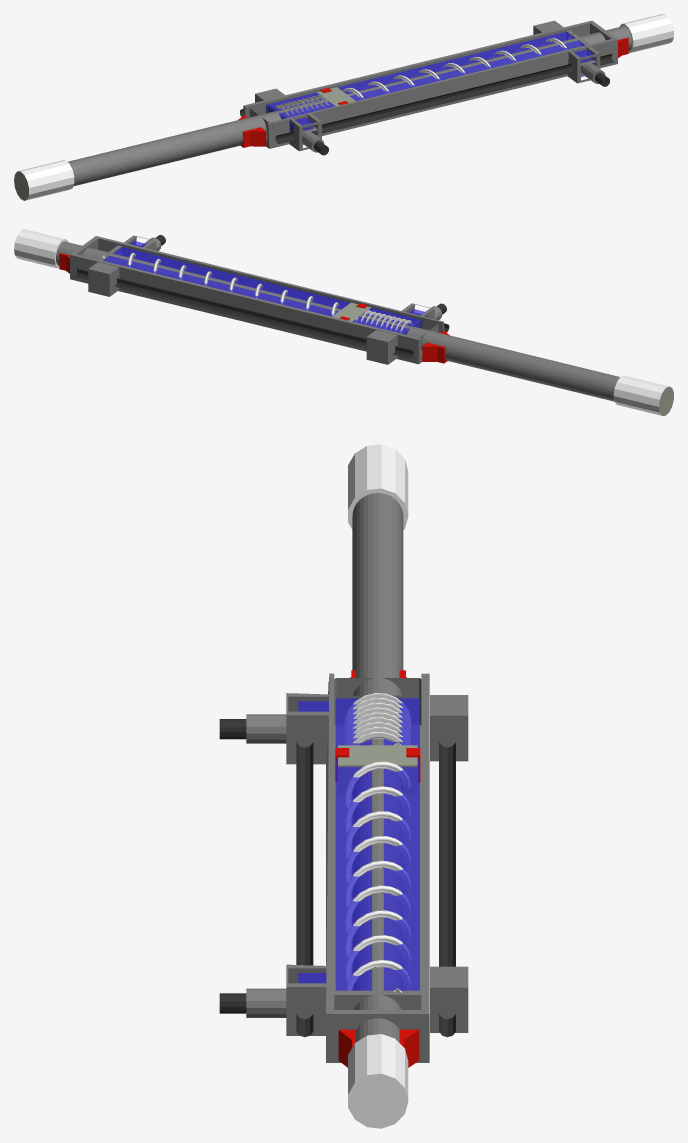
The model's file is Actuadores de doble vástago.glb.
3 views of the same model, one above another, from view 1: azimuth 30°, elevation 25°; view 2: azimuth 150°, elevation 25°; view 3: azimuth 270°, elevation 25° (orthographic). The views are drawn at different scales.
Visible parts, largest first — view 1: Cube.002, Cube.001, W, Circle.001, res, Cube.004, Cube.005, res.001, Cube.009; view 2: Cube.002, Cube.001, W, Circle.001, Cube.008, Cube.007, res, Cube.009, res.001; view 3: Cube.002, W, Cube.001, Circle.001, res, res.001, Cube.004, Cube.005, Cube.007, Cube.008, Cylinder.002, Cylinder.001 (+1 smaller).
Part boxes in pixels (x1=…): Cube.002: x1=14, y1=14, x2=673, y2=200; Cube.001: x1=243, y1=20, x2=617, y2=148; W: x1=266, y1=31, x2=584, y2=119; Circle.001: x1=240, y1=53, x2=614, y2=143; res: x1=342, y1=32, x2=576, y2=99; Cube.004: x1=289, y1=113, x2=321, y2=151; Cube.005: x1=567, y1=46, x2=600, y2=83; res.001: x1=275, y1=94, x2=328, y2=117; Cube.009: x1=238, y1=115, x2=266, y2=147; Cube.002: x1=14, y1=229, x2=673, y2=415; Cube.001: x1=70, y1=236, x2=444, y2=364; W: x1=103, y1=247, x2=421, y2=334; Circle.001: x1=74, y1=268, x2=449, y2=358; Cube.008: x1=366, y1=330, x2=397, y2=364; Cube.007: x1=88, y1=262, x2=119, y2=296; res: x1=102, y1=252, x2=338, y2=316; Cube.009: x1=422, y1=330, x2=449, y2=363; res.001: x1=356, y1=310, x2=412, y2=332; Cube.002: x1=338, y1=444, x2=417, y2=1128; W: x1=335, y1=698, x2=419, y2=990; Cube.001: x1=326, y1=673, x2=429, y2=1062; Circle.001: x1=296, y1=742, x2=455, y2=1037; res: x1=344, y1=761, x2=410, y2=994; res.001: x1=344, y1=693, x2=410, y2=745; Cube.004: x1=286, y1=693, x2=332, y2=764; Cube.005: x1=286, y1=964, x2=332, y2=1035; Cube.007: x1=430, y1=966, x2=468, y2=1032; Cube.008: x1=430, y1=695, x2=468, y2=761; Cylinder.002: x1=246, y1=714, x2=286, y2=743; Cylinder.001: x1=246, y1=988, x2=286, y2=1017.
Size of the model in its own units: 28.7 by 1.29 by 4.79.
